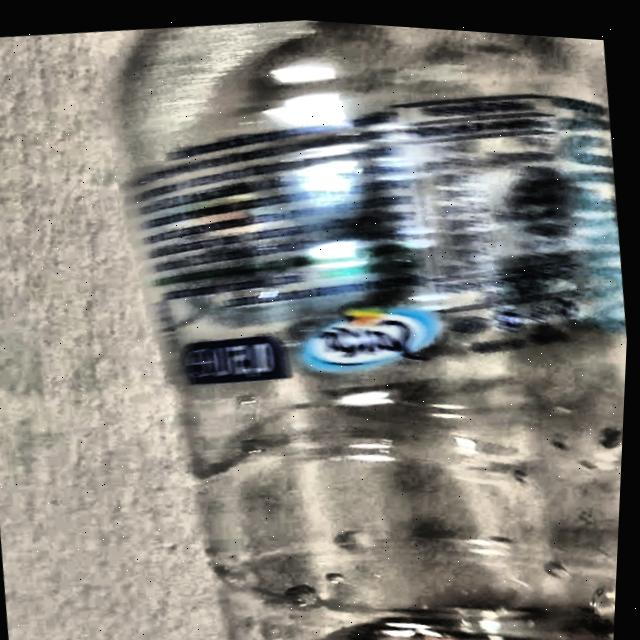plastic: (111, 16, 630, 640)
